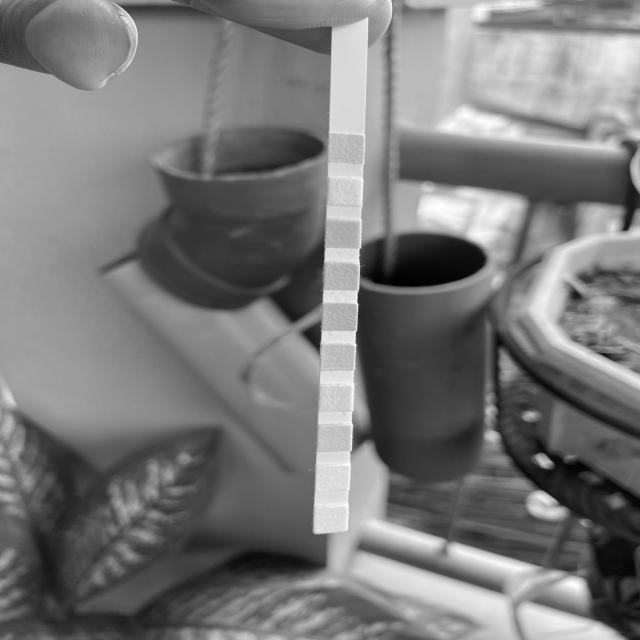Bilirubin: (327, 179, 361, 206)
Blood: (324, 304, 358, 330)
Glucose: (329, 135, 364, 163)
Ketone: (326, 220, 360, 247)
Leukocytes: (314, 507, 348, 532)
Nitrite: (316, 465, 350, 490)
Protein: (320, 385, 354, 411)
SpGravity: (324, 262, 358, 290)
Urobilinogen: (318, 425, 352, 450)
background: (0, 0, 640, 640)
pH: (320, 344, 354, 370)
strip: (315, 31, 368, 534)
